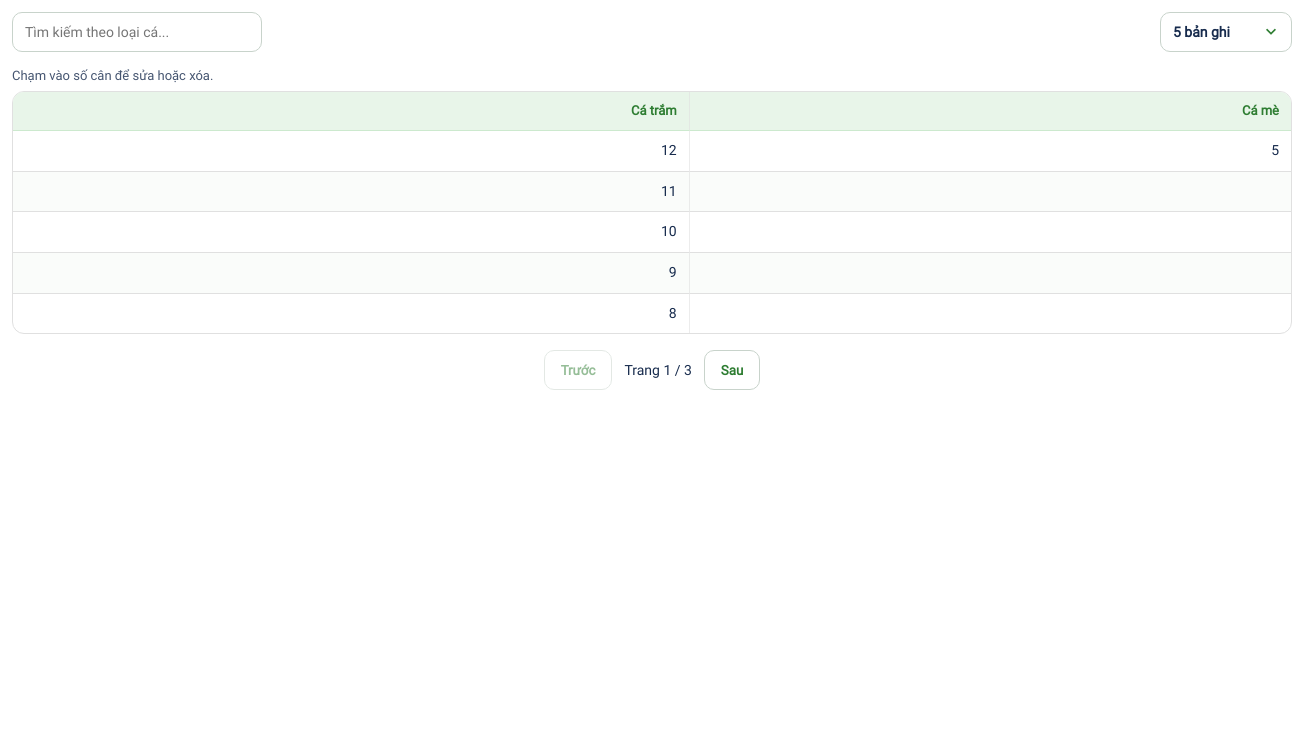
Test: đổi số dòng mỗi trang thì về trang 1
Click the button "Sau" at [732, 370], box x1=704 y1=350 x2=760 y2=390
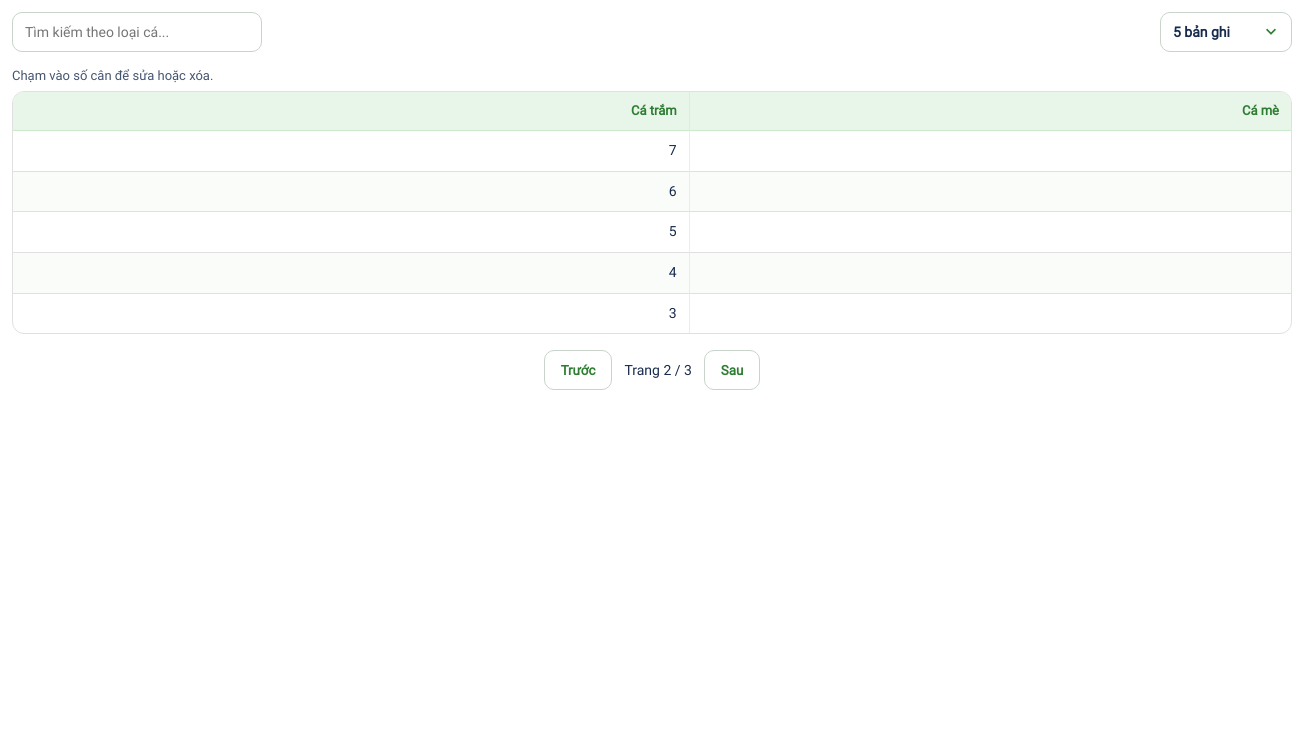
Click the button with id "itemsPerPage" at [1226, 32], box x1=1160 y1=12 x2=1292 y2=52
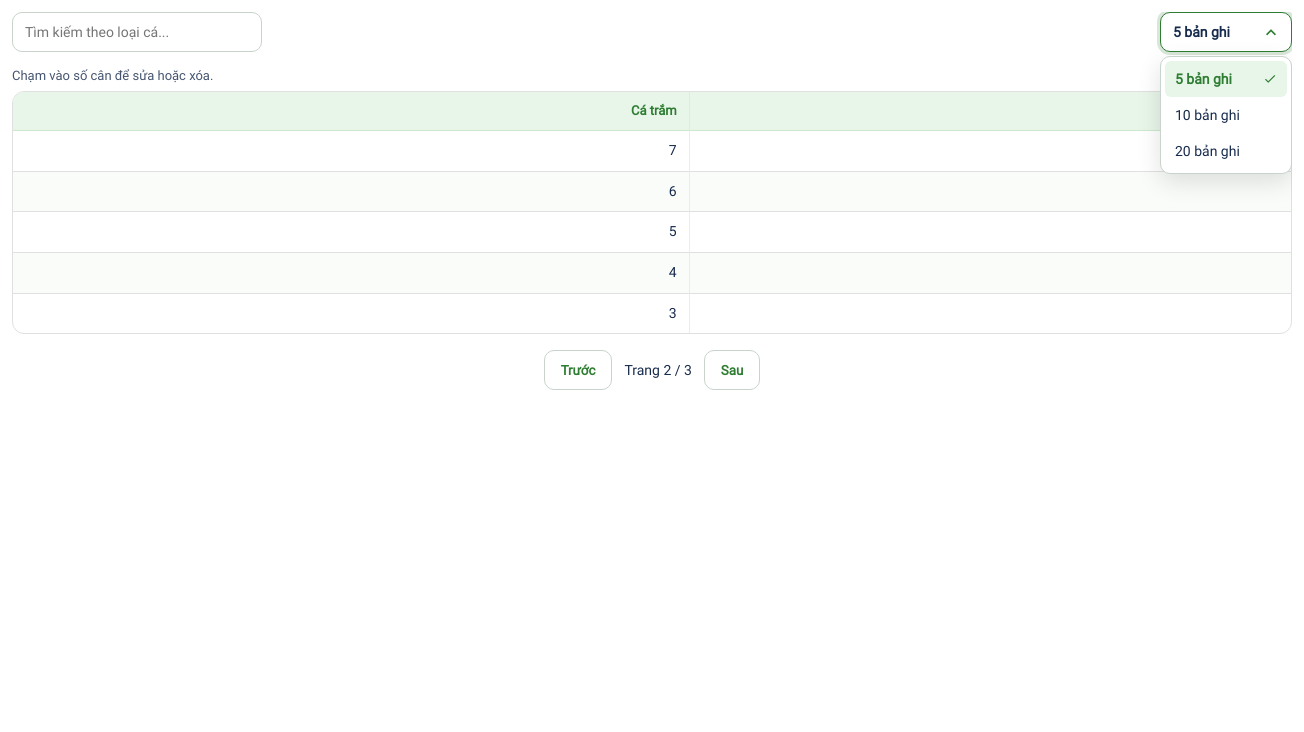
Click the option "10 bản ghi" at [1207, 115], box x1=1175 y1=107 x2=1240 y2=123
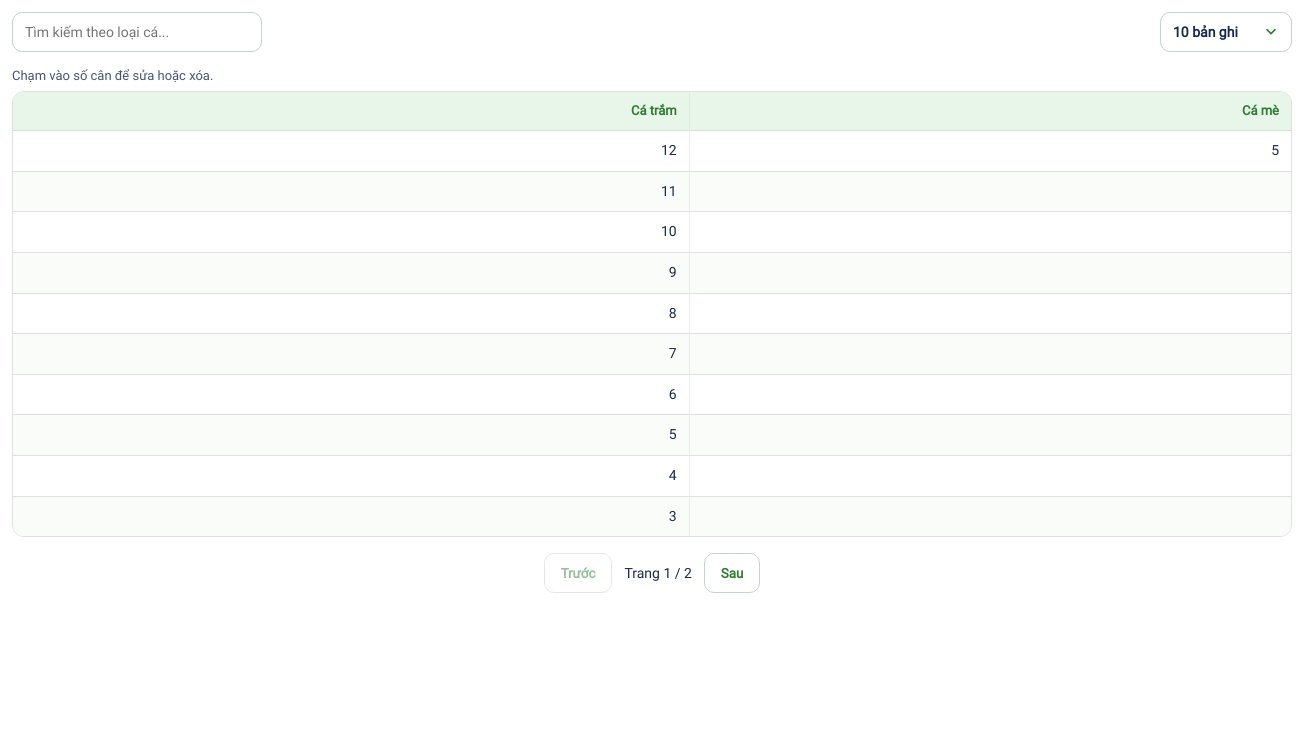
Check: the text "Trang 1 / 2" is shown, box x1=624 y1=565 x2=692 y2=581
